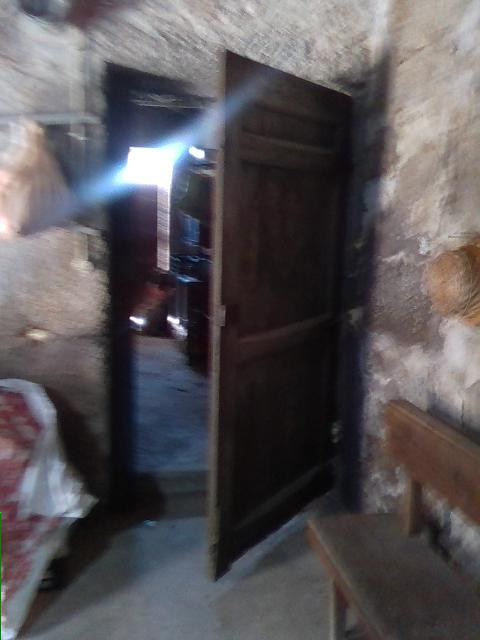semi_door: (98, 46, 358, 588)
